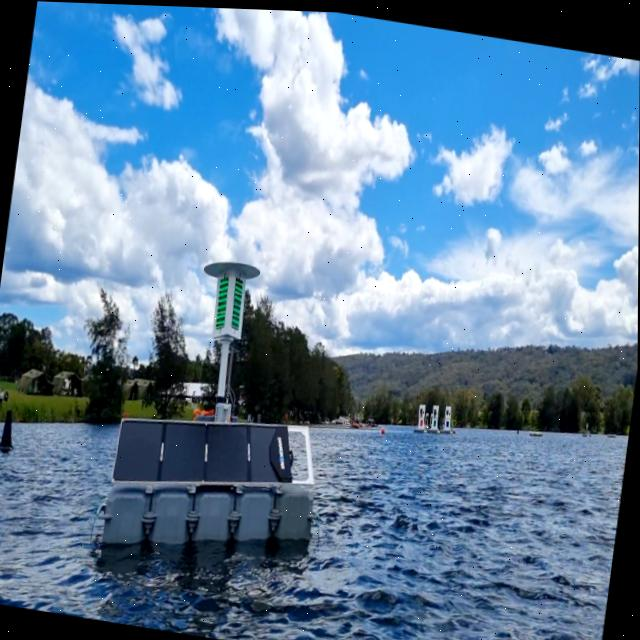led: (230, 276, 245, 327), (215, 277, 230, 325)
